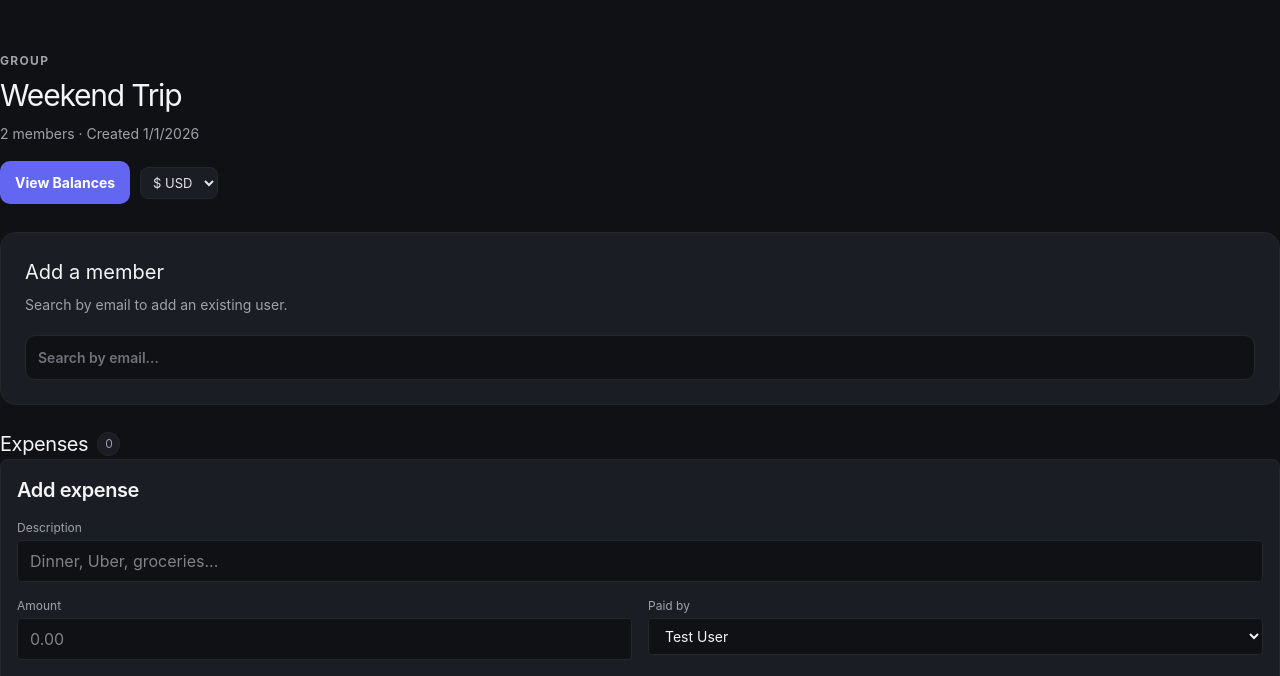
it: GroupDetail member search › resets the loading state and lists matching users when the email exists
Type "found@example.com" into the field with placeholder "Search by email…" at (640, 357), box [25,335,1255,380]
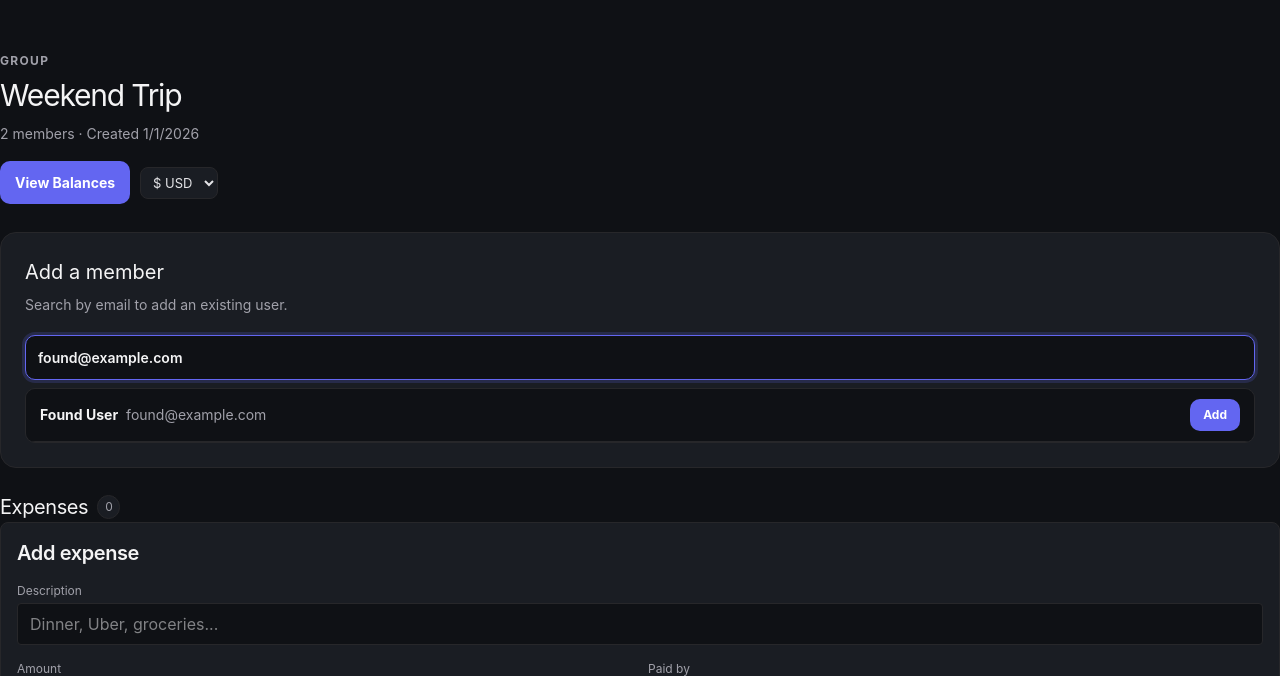
Now the text "Found User" is shown, box [40,406,118,423]
Now the text "found@example.com" is shown, box [126,406,266,423]
